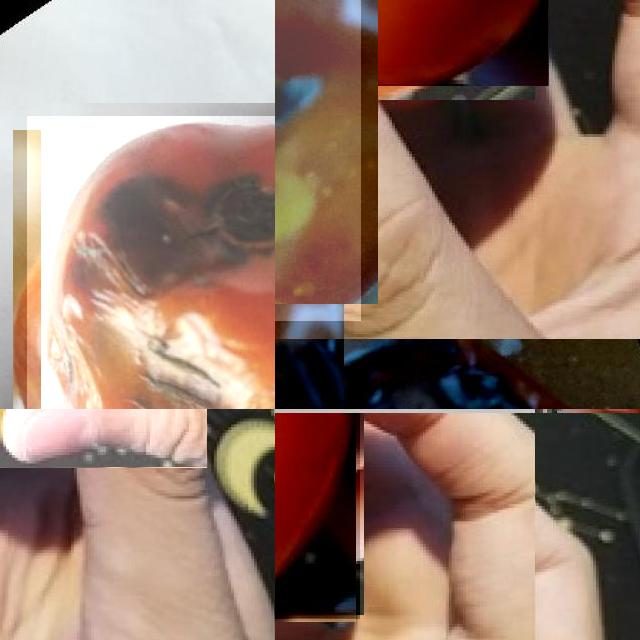Fresh Tomato: (275, 413, 360, 618), (344, 0, 536, 86)
Rotten Tomato: (27, 116, 275, 409), (275, 0, 361, 321), (344, 339, 640, 409)
